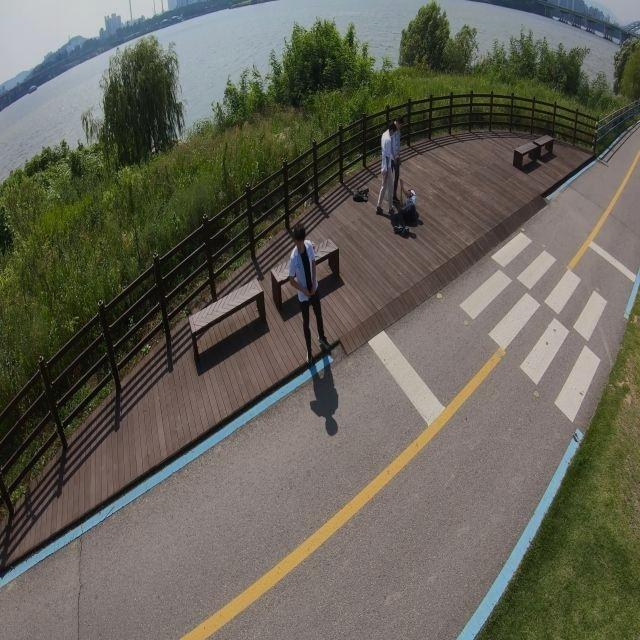fight: (376, 117, 419, 240)
non-fight: (288, 224, 331, 364)
